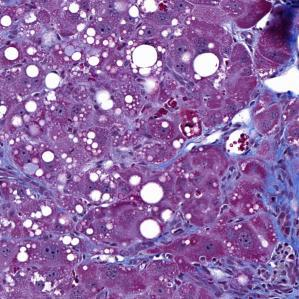fibrosis: (245, 135, 299, 296)
